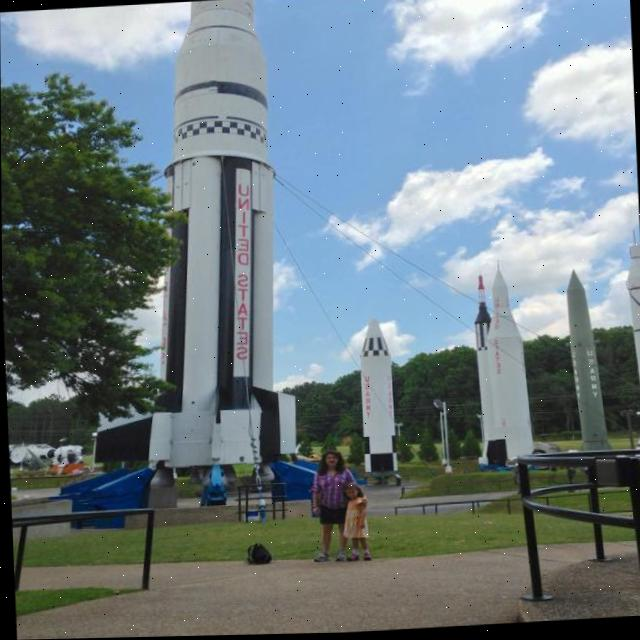missile: (128, 6, 290, 486), (466, 266, 535, 479), (352, 312, 409, 487), (563, 271, 610, 462)
